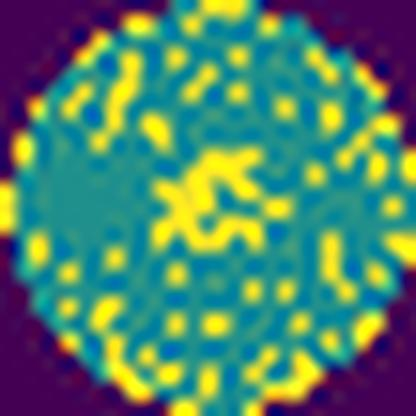Center: (150, 145, 296, 253)
